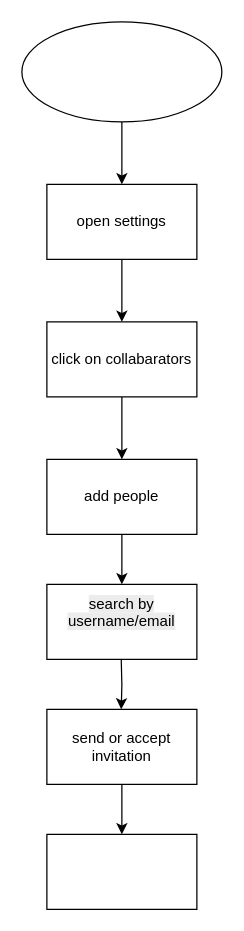
Image size: 244x931. Some labels were removed from this diagram. Here are the shapes that lost their labels. From the top down, the box of each, then its label:
(21, 21, 222, 122): open repository
(46, 833, 197, 909): create 3 collaborations
